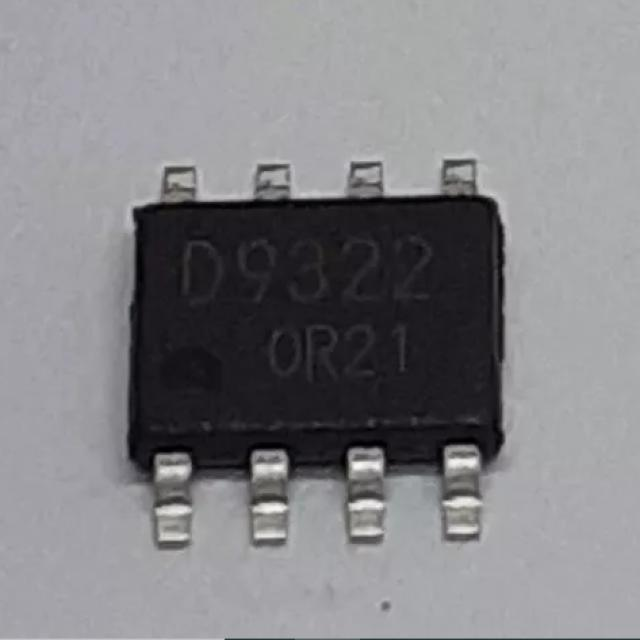IC: (122, 162, 510, 547)
